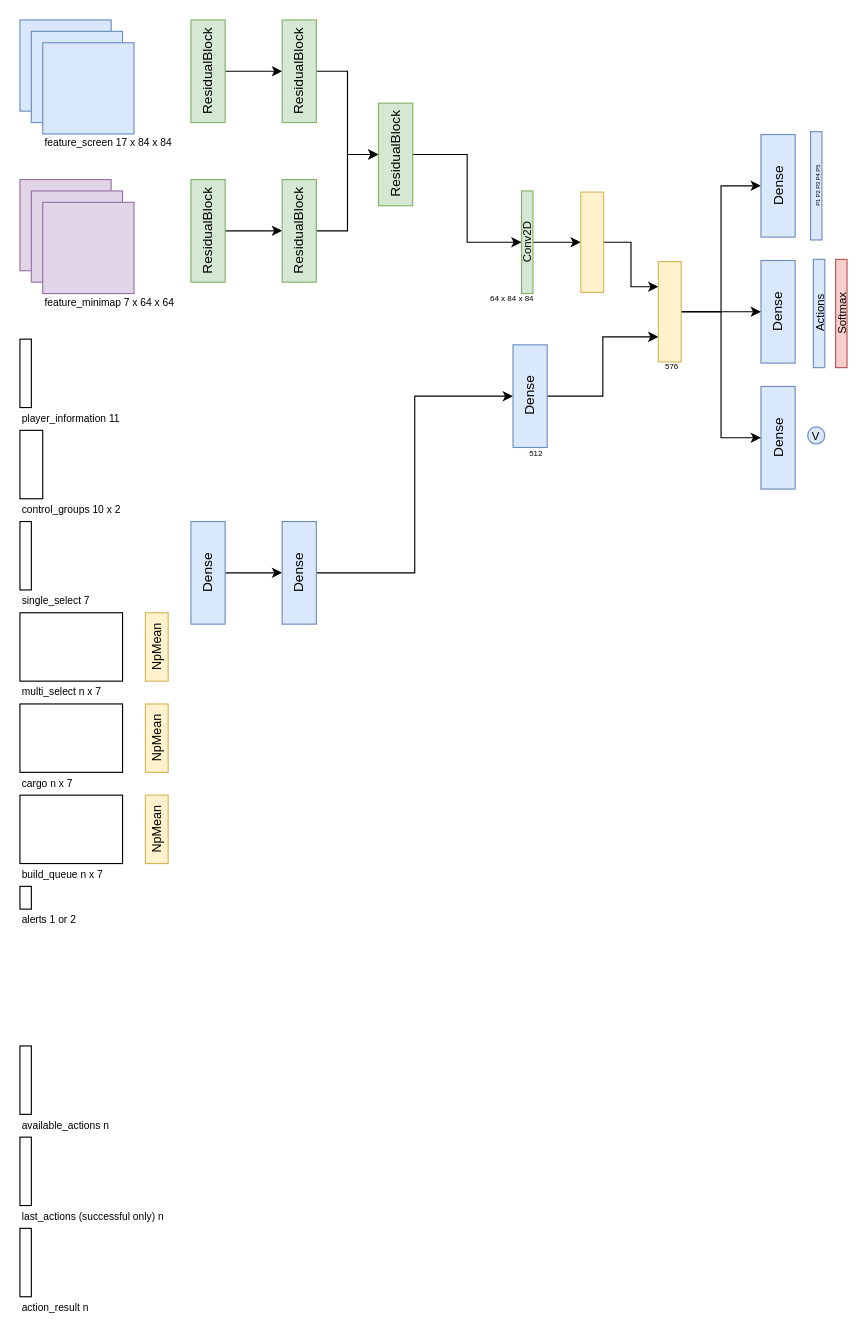
Some shapes in this 868 by 1340 pixel diagram are drawn without their labels. Here are the shapes that lost their labels. From the top down, the box of each, then its label:
(580, 191, 604, 292): AvgPool
(657, 260, 681, 362): Concat
